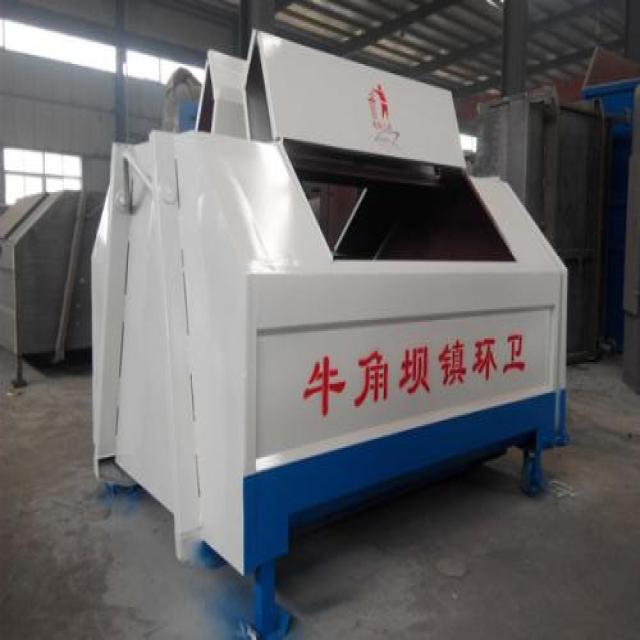garbage_bin: (90, 126, 567, 638)
